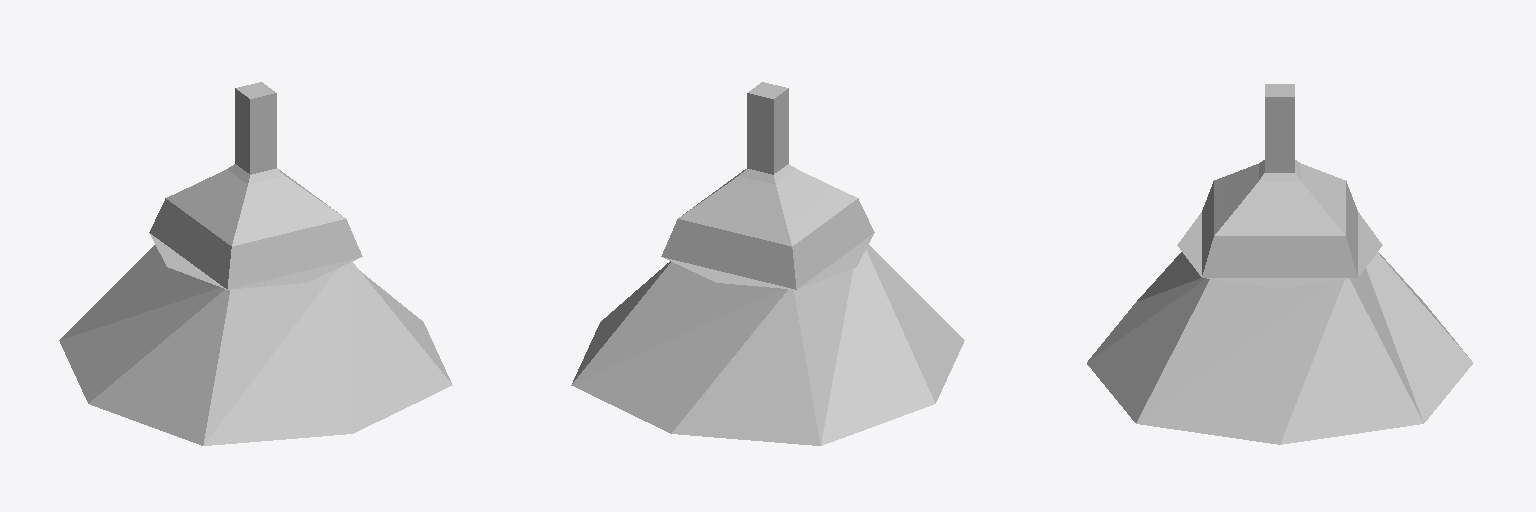
Rendered from Lamp.obj.
3 renders of one model, left to right at view 1: azimuth 30°, elevation 25°; view 2: azimuth 150°, elevation 25°; view 3: azimuth 270°, elevation 25°, orthographic.
Parts seen in each view (by area): view 1: Cube; view 2: Cube; view 3: Cube.
Part boxes in pixels (x1,y1,x2,y2): Cube: (59,82,452,445); Cube: (571,82,964,445); Cube: (1087,84,1472,444).
Bounding box in the file's own units: 5.77 × 5.44 × 5.77.